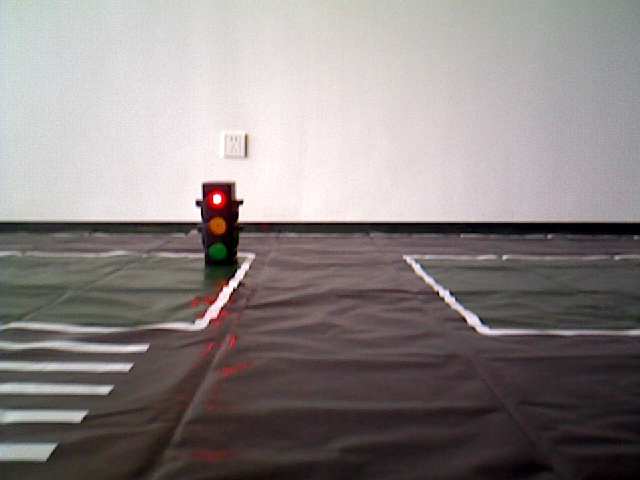red: (202, 183, 236, 271)
